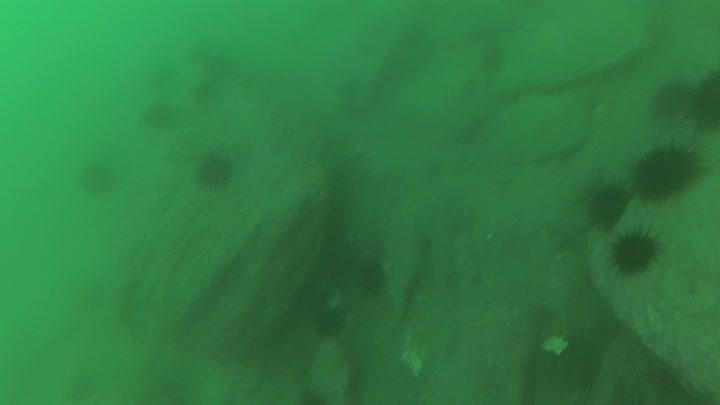echinus: (517, 308, 603, 398), (629, 140, 704, 202), (607, 226, 663, 278), (583, 180, 633, 231), (685, 67, 720, 133), (647, 78, 695, 121), (194, 149, 237, 192), (76, 158, 120, 197), (354, 257, 389, 296), (139, 100, 178, 132), (311, 305, 347, 339), (477, 44, 507, 76), (190, 79, 220, 107)
starfish: (542, 211, 592, 256)
